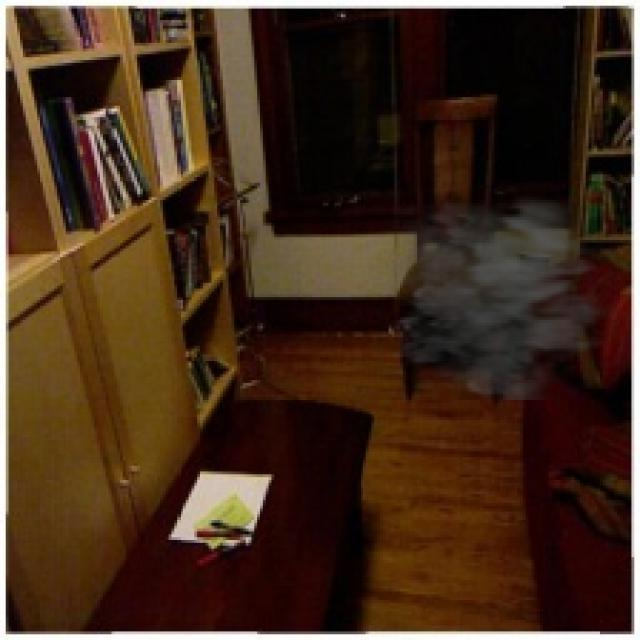Smoke: (366, 180, 620, 400)
